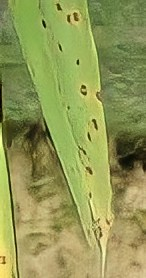Bercak Coklat: (70, 51, 86, 71), (37, 15, 51, 35), (52, 39, 68, 56), (85, 115, 101, 130), (78, 80, 89, 100), (71, 7, 82, 25), (63, 11, 75, 27), (84, 165, 97, 178), (53, 2, 66, 13)
